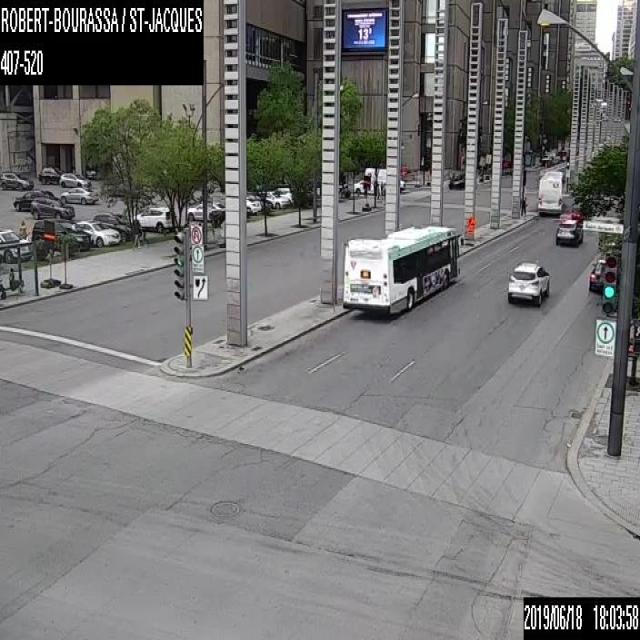bus: (342, 223, 464, 316), (537, 168, 566, 215)
construction: (466, 215, 474, 233)
pedestrian: (8, 265, 16, 292), (18, 219, 25, 235), (0, 282, 6, 297)
vehicle: (506, 259, 550, 305), (30, 218, 77, 254), (91, 212, 138, 242), (71, 220, 119, 245), (0, 227, 33, 262), (131, 206, 173, 232), (30, 197, 74, 220), (363, 165, 405, 189), (58, 222, 90, 250), (13, 190, 54, 210), (185, 200, 223, 220), (556, 218, 582, 245), (587, 255, 605, 292), (59, 187, 98, 204), (0, 171, 34, 189), (245, 191, 273, 210), (36, 164, 64, 183), (263, 190, 290, 208), (58, 172, 90, 187), (353, 180, 385, 193), (272, 185, 295, 202), (244, 194, 260, 217), (448, 170, 465, 190)
